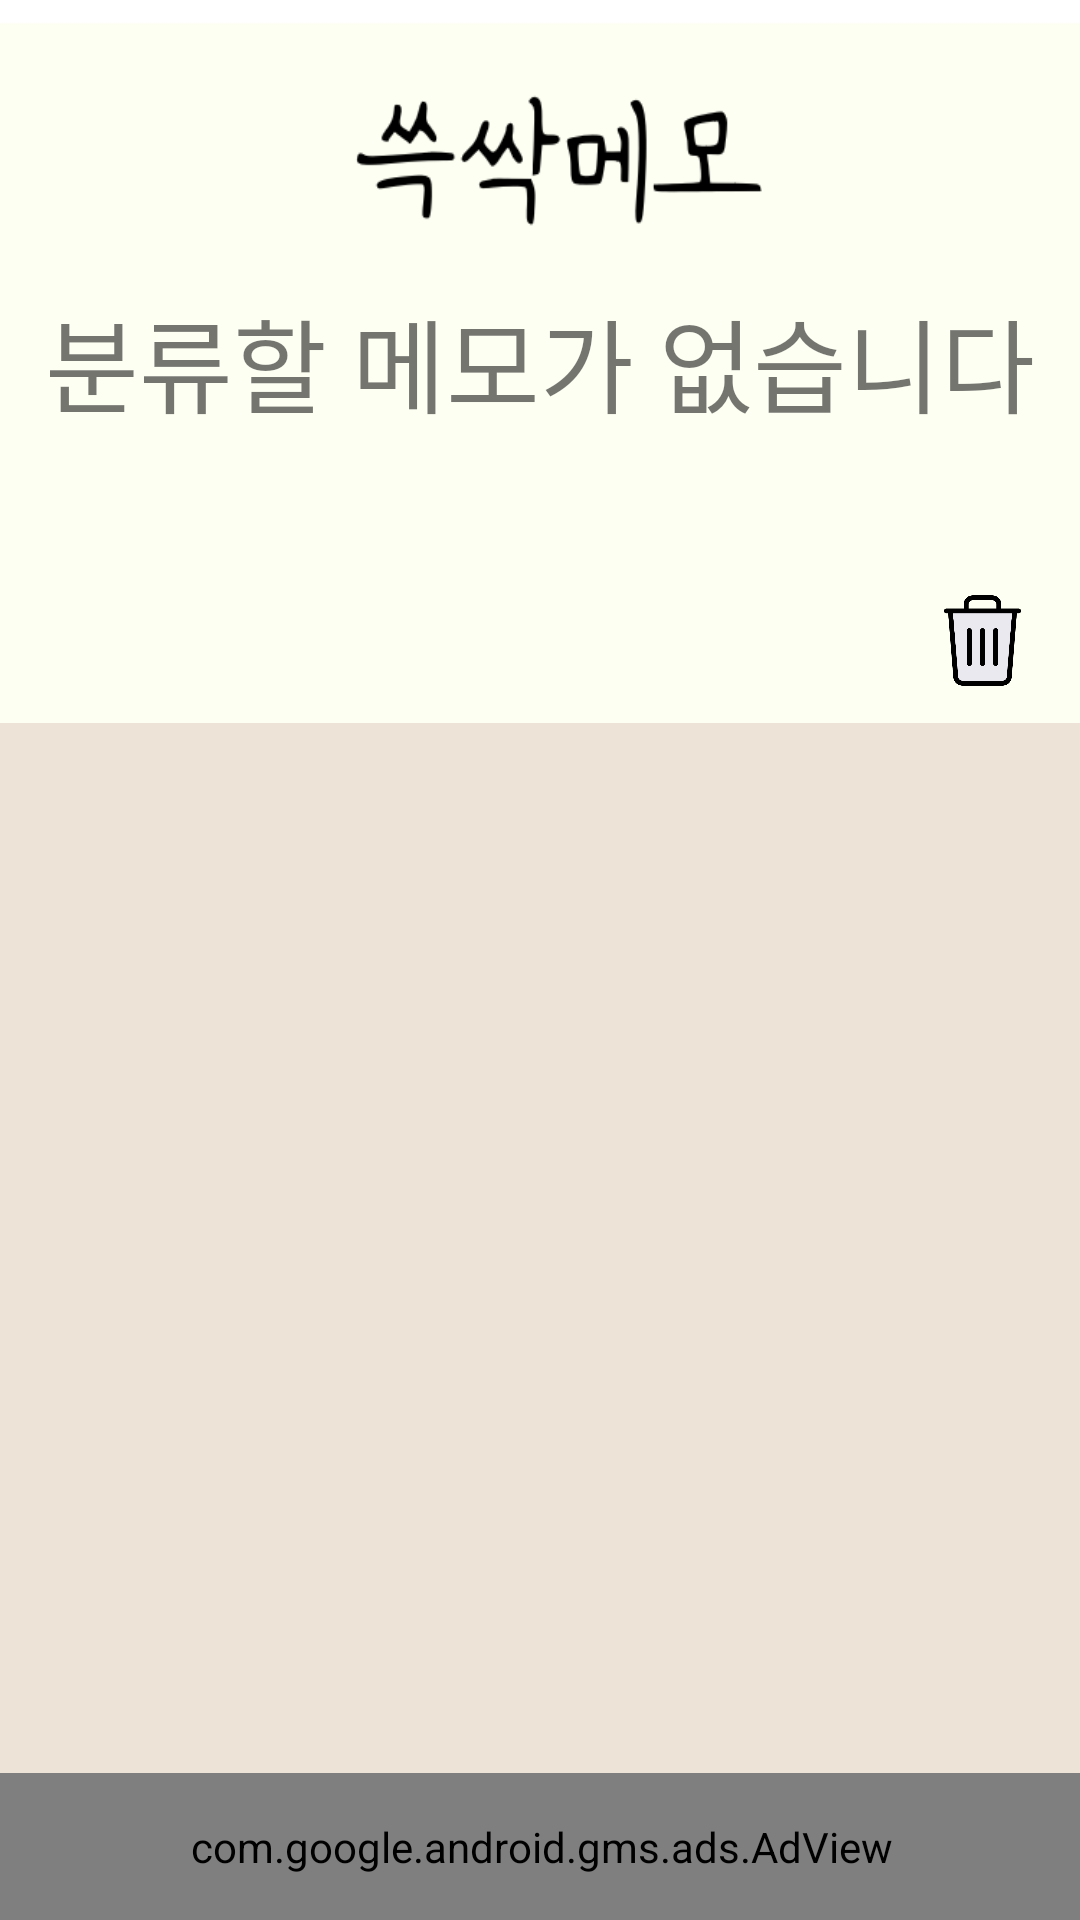

Screen size 1080 × 1920. Icon name, then its box in pixels as [left=x1, top=y1, right=x2, bottom=y2]:
delete: [left=944, top=595, right=1021, bottom=686]
